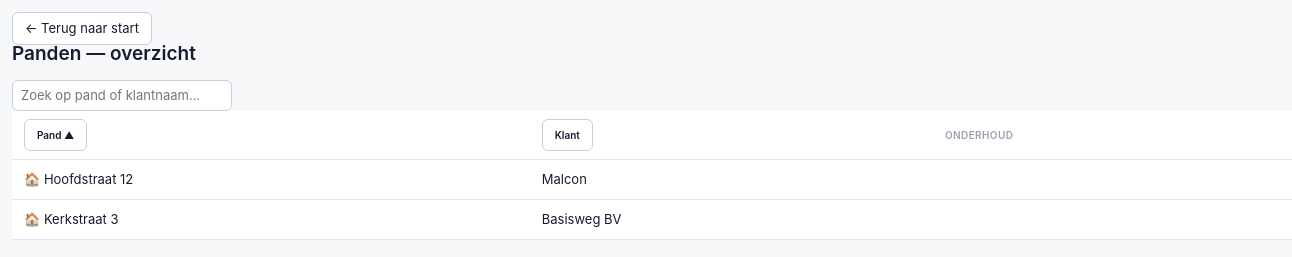
Test: PandenOverzichtPage › toont panden met hun klantnaam en filtert op zoekterm
Expected: the text "🏠 Hoofdstraat 12" is shown, [12,160,530,200]
Expected: the text "Malcon" is shown, [530,160,933,200]
Type "hoofdstraat" into the field named "Zoek pand of klant". click: (122, 95)
box: [12,80,232,110]
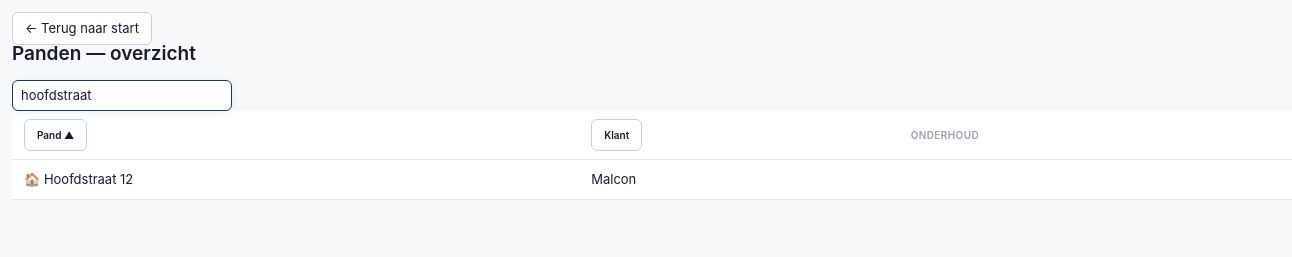
Expected: the text "🏠 Hoofdstraat 12" is shown, [12,160,579,200]
Now the text "🏠 Kerkstraat 3" is gone
